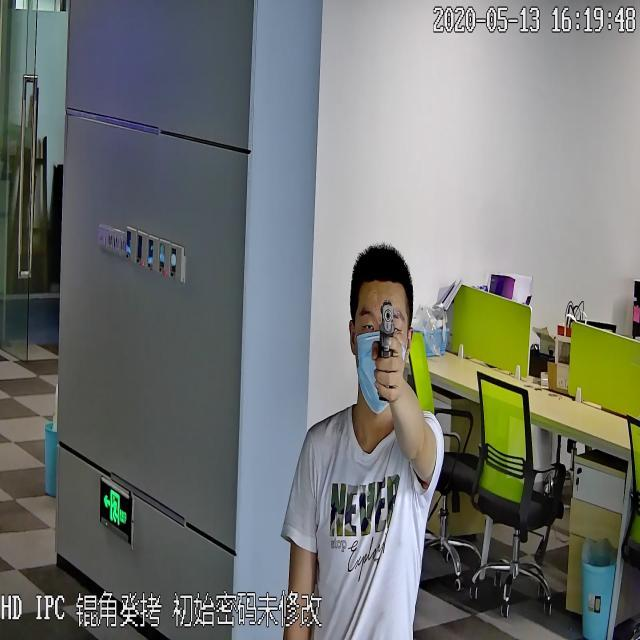gun: (376, 295, 400, 405)
